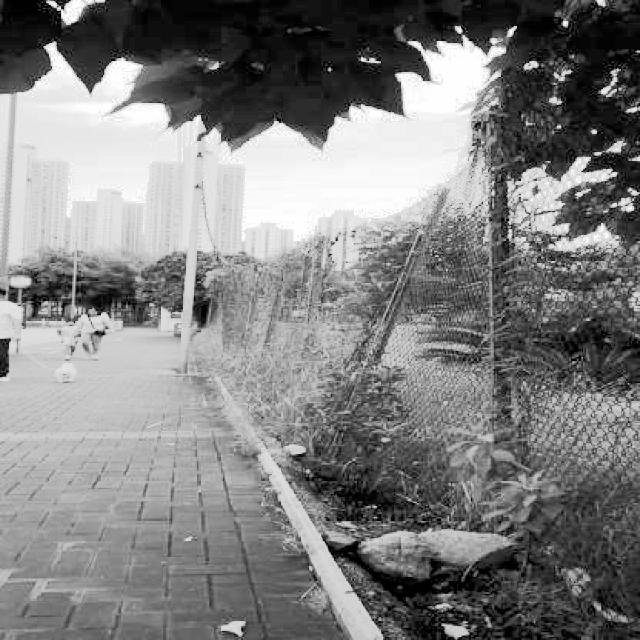anomaly-fence: (333, 128, 522, 482)
